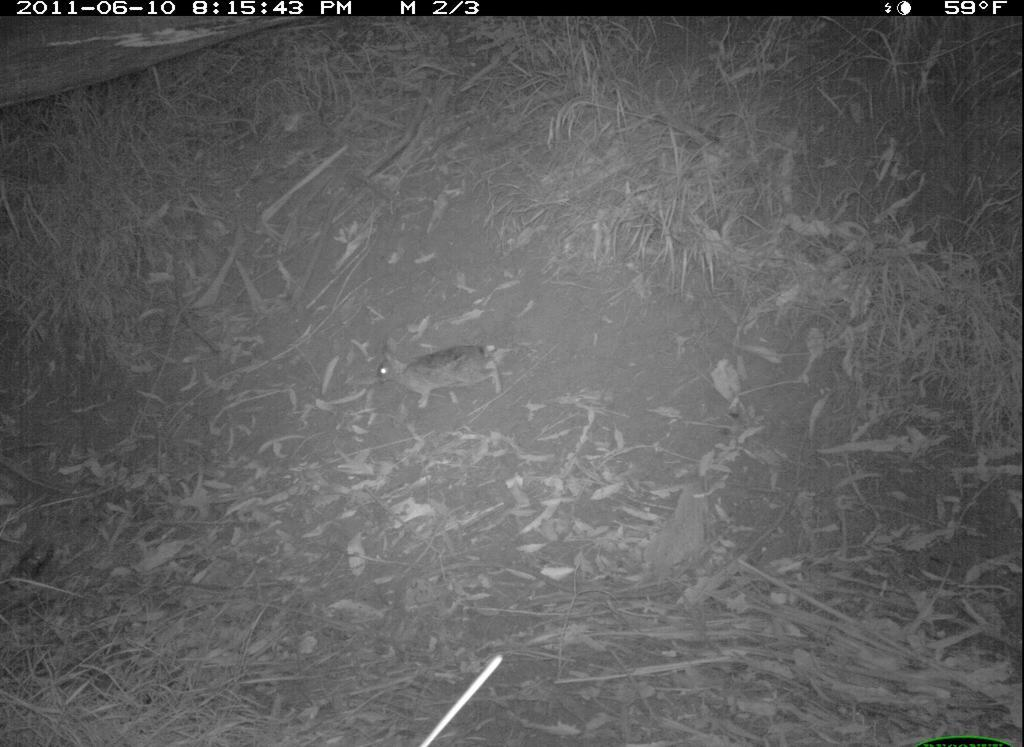rabbit: (365, 328, 510, 418)
